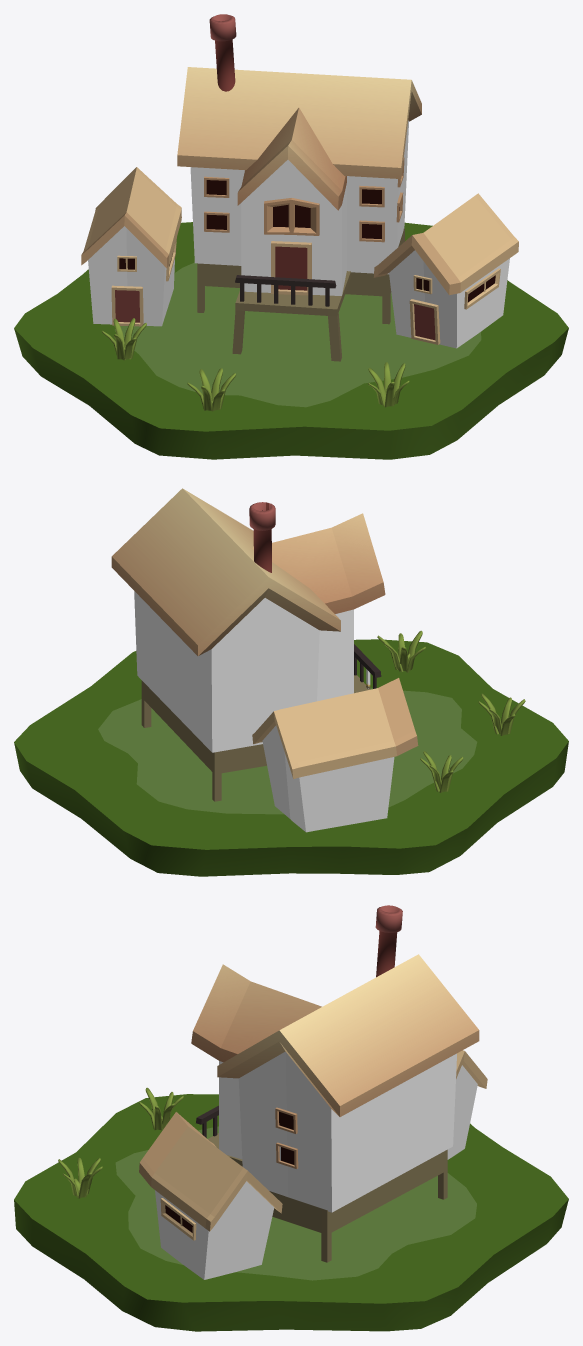
File: Forest_CIty00.fbx
3 views of the same model, one above another, from view 1: azimuth 30°, elevation 25°; view 2: azimuth 150°, elevation 25°; view 3: azimuth 270°, elevation 25° (orthographic).
Visible parts, largest first — view 1: Forest_City; view 2: Forest_City; view 3: Forest_City.
Boxes of the visible parts, box(x1,y1,x2,y2) form: Forest_City: box(14, 14, 568, 459); Forest_City: box(14, 488, 568, 876); Forest_City: box(14, 905, 568, 1331).
Bounding box in the file's own units: 0.9199 × 0.6277 × 1.02.
